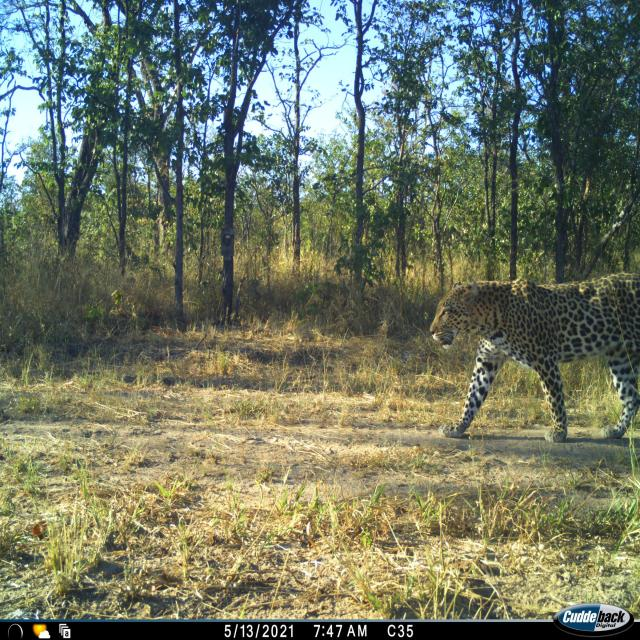Leopard: (423, 266, 640, 472)
